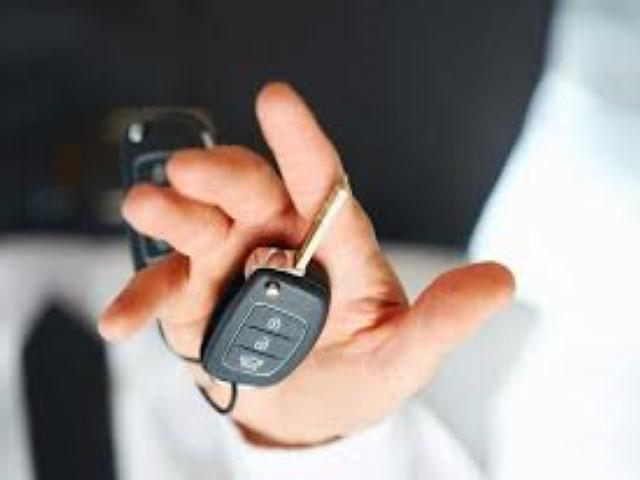key: (200, 181, 346, 346)
